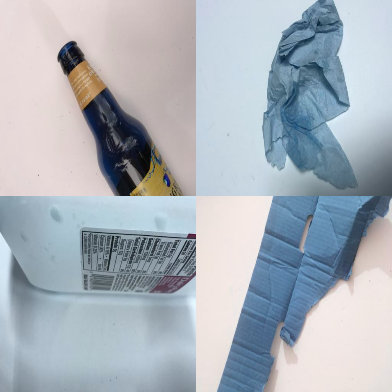cardboard: (216, 196, 392, 392)
glass: (56, 40, 187, 195)
paper: (263, 1, 360, 189)
plastic: (1, 196, 195, 298)
